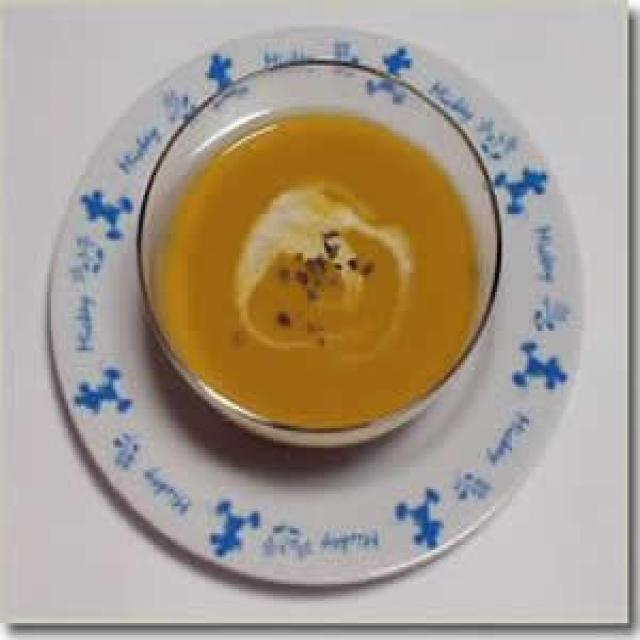汤锅炖物: (32, 19, 595, 594)
